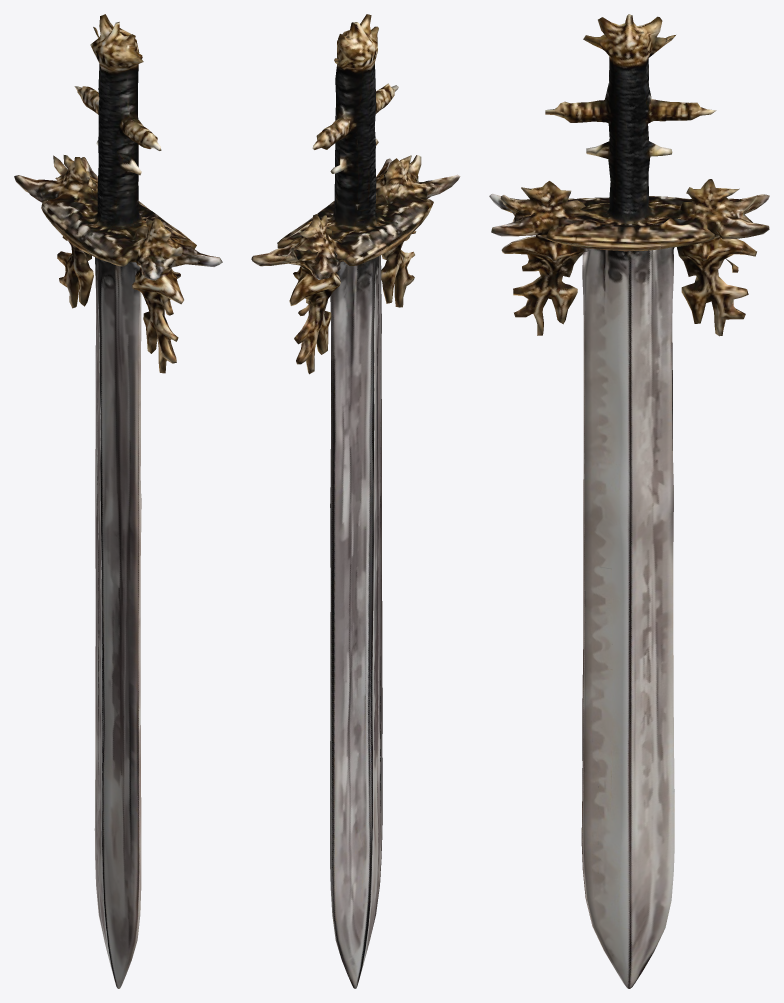
The picture shows the model from 3 angles, left to right: view 1: azimuth 30°, elevation 25°; view 2: azimuth 150°, elevation 25°; view 3: azimuth 270°, elevation 25°; orthographic projection.
Parts seen in each view (by area): view 1: tripo_node_7f3a23c5-9594-48a2-a06e-70ecb72a02f5; view 2: tripo_node_7f3a23c5-9594-48a2-a06e-70ecb72a02f5; view 3: tripo_node_7f3a23c5-9594-48a2-a06e-70ecb72a02f5.
Boxes of the visible parts, x1,y1,x2,y2 form: tripo_node_7f3a23c5-9594-48a2-a06e-70ecb72a02f5: (14,14,222,988); tripo_node_7f3a23c5-9594-48a2-a06e-70ecb72a02f5: (251,14,460,988); tripo_node_7f3a23c5-9594-48a2-a06e-70ecb72a02f5: (489,14,769,988).
Size of the model in its own units: 0.0957 by 0.9784 by 0.2558.
1 material, 1 textured.
